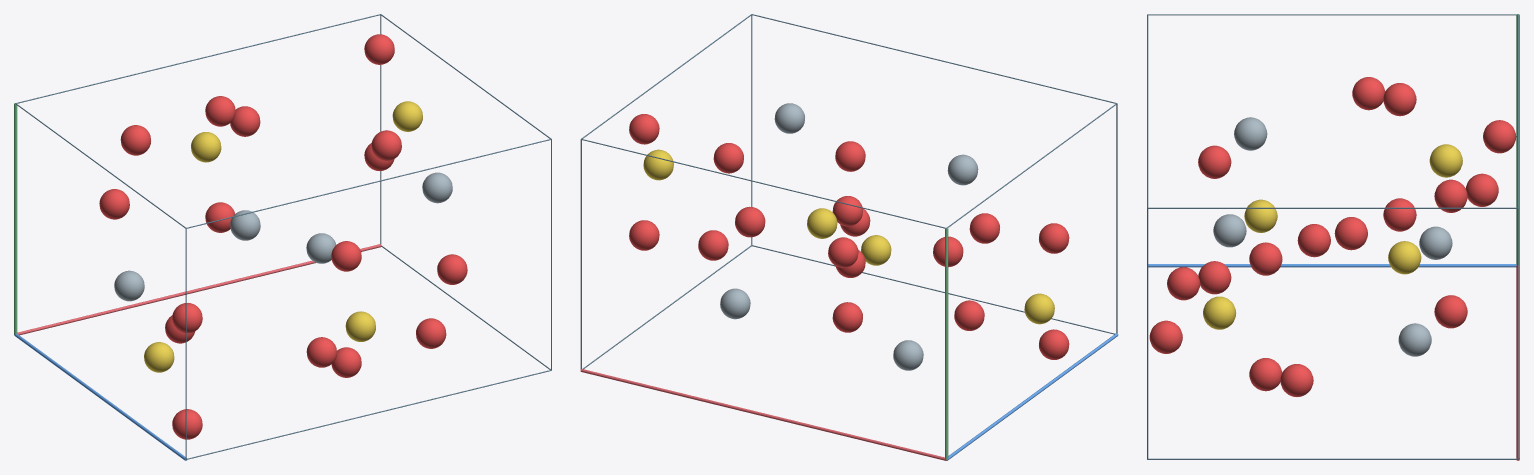
Rendered from chat-tin-sulfate.glb.
3 renders of one model, left to right at view 1: azimuth 30°, elevation 25°; view 2: azimuth 150°, elevation 25°; view 3: azimuth 270°, elevation 25°, orthographic. The views are drawn at different scales.
Visible parts, largest first — view 1: Ô mạng và các trục a, b, c, O3 · O · 1 (×7), S · S · 1 (×4), O1 · O · 1 (×4), Sn · Sn · 1 (×4), O2 · O · 1 (×3); view 2: Ô mạng và các trục a, b, c, O3 · O · 1 (×7), Sn · Sn · 1 (×4), S · S · 1 (×4), O1 · O · 1 (×4), O2 · O · 1 (×3); view 3: O3 · O · 1 (×8), Ô mạng và các trục a, b, c, Sn · Sn · 1 (×4), O2 · O · 1 (×4), O1 · O · 1 (×4), S · S · 1 (×4).
Boxes of the visible parts, x1=… form: Ô mạng và các trục a, b, c: x1=14, y1=14, x2=551, y2=460; O3 · O · 1 (×7): x1=172, y1=34, x2=394, y2=439; S · S · 1 (×4): x1=144, y1=101, x2=422, y2=372; O1 · O · 1 (×4): x1=99, y1=106, x2=467, y2=367; Sn · Sn · 1 (×4): x1=114, y1=172, x2=452, y2=301; O2 · O · 1 (×3): x1=120, y1=125, x2=446, y2=348; Ô mạng và các trục a, b, c: x1=580, y1=14, x2=1118, y2=460; O3 · O · 1 (×7): x1=629, y1=114, x2=1069, y2=359; Sn · Sn · 1 (×4): x1=720, y1=103, x2=978, y2=370; S · S · 1 (×4): x1=643, y1=149, x2=1054, y2=324; O1 · O · 1 (×4): x1=698, y1=206, x2=999, y2=267; O2 · O · 1 (×3): x1=713, y1=143, x2=984, y2=330; O3 · O · 1 (×8): x1=1198, y1=83, x2=1467, y2=391; Ô mạng và các trục a, b, c: x1=1147, y1=14, x2=1519, y2=460; Sn · Sn · 1 (×4): x1=1213, y1=117, x2=1452, y2=356; O2 · O · 1 (×4): x1=1149, y1=120, x2=1516, y2=353; O1 · O · 1 (×4): x1=1167, y1=77, x2=1498, y2=396; S · S · 1 (×4): x1=1203, y1=144, x2=1462, y2=329.
Bounding box in the file's own units: 8.85 × 5.75 × 7.16.
